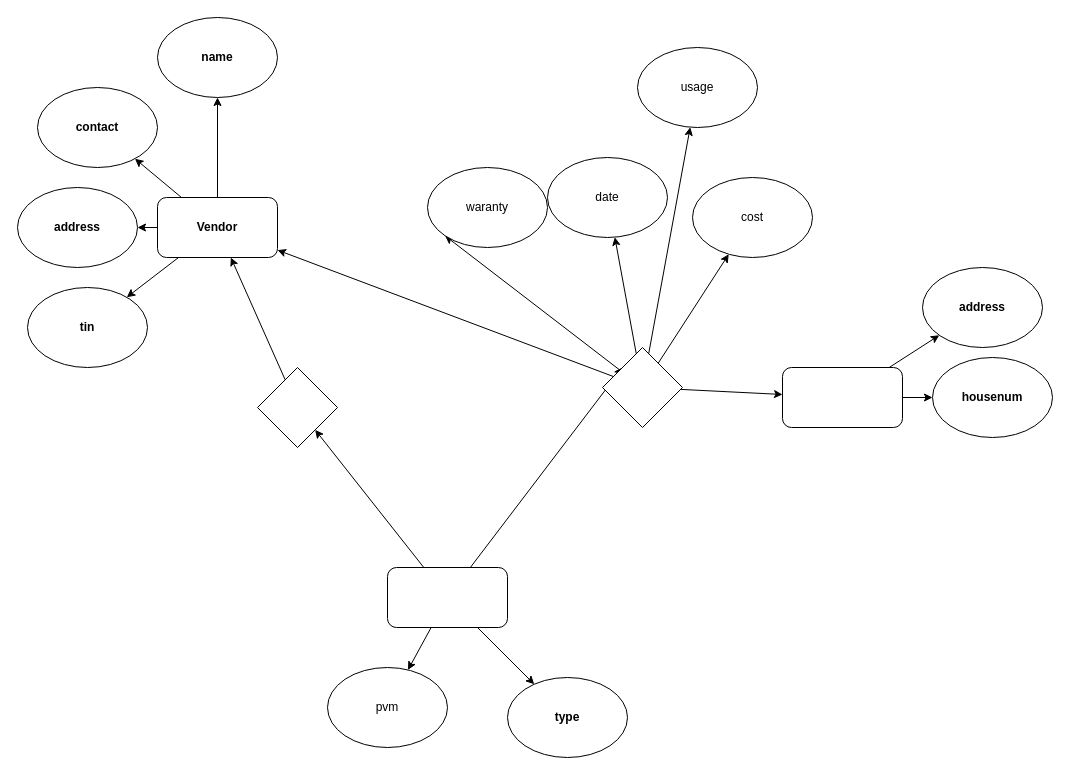
Image size: 1070x775. Some labels were removed from this diagram. The centre of each missing label's shape, as x and y in pixels:
distributor: point 297,407
installatoin: point 642,387
panel: point 447,597
User: point 842,397
